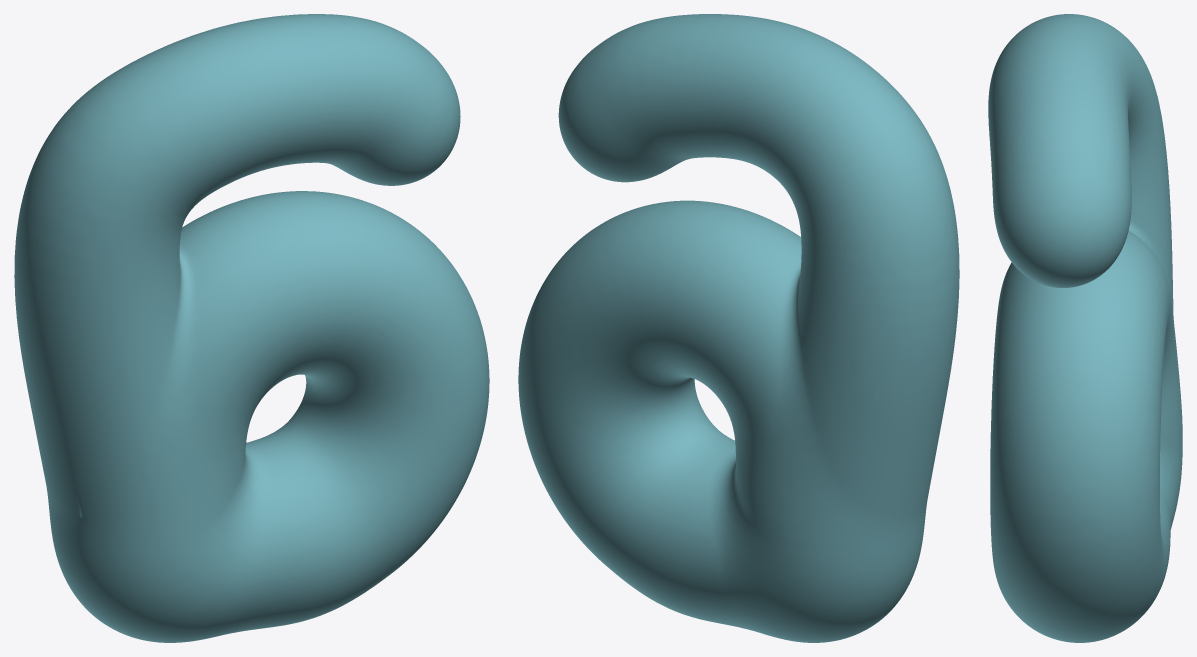
The picture shows the model from 3 angles, left to right: view 1: azimuth 30°, elevation 25°; view 2: azimuth 150°, elevation 25°; view 3: azimuth 270°, elevation 25°; orthographic projection. The views are drawn at different scales.
Visible parts, largest first — view 1: Area (3); view 2: Area (3); view 3: Area (3).
Boxes of the visible parts, x1,y1,x2,y2 form: Area (3): [14, 14, 489, 642]; Area (3): [518, 14, 959, 642]; Area (3): [988, 14, 1182, 642].
Bounding box in the file's own units: 169 × 221 × 68.41.
Materials: 1 (1 with a texture image).
